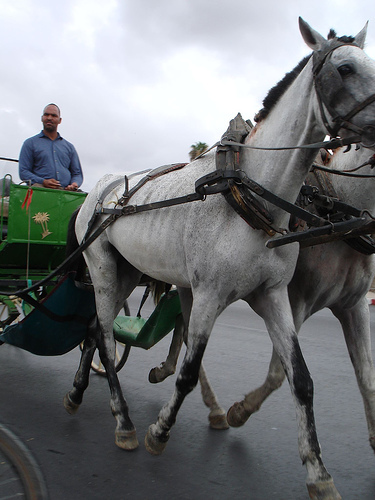horse: (60, 13, 375, 500)
